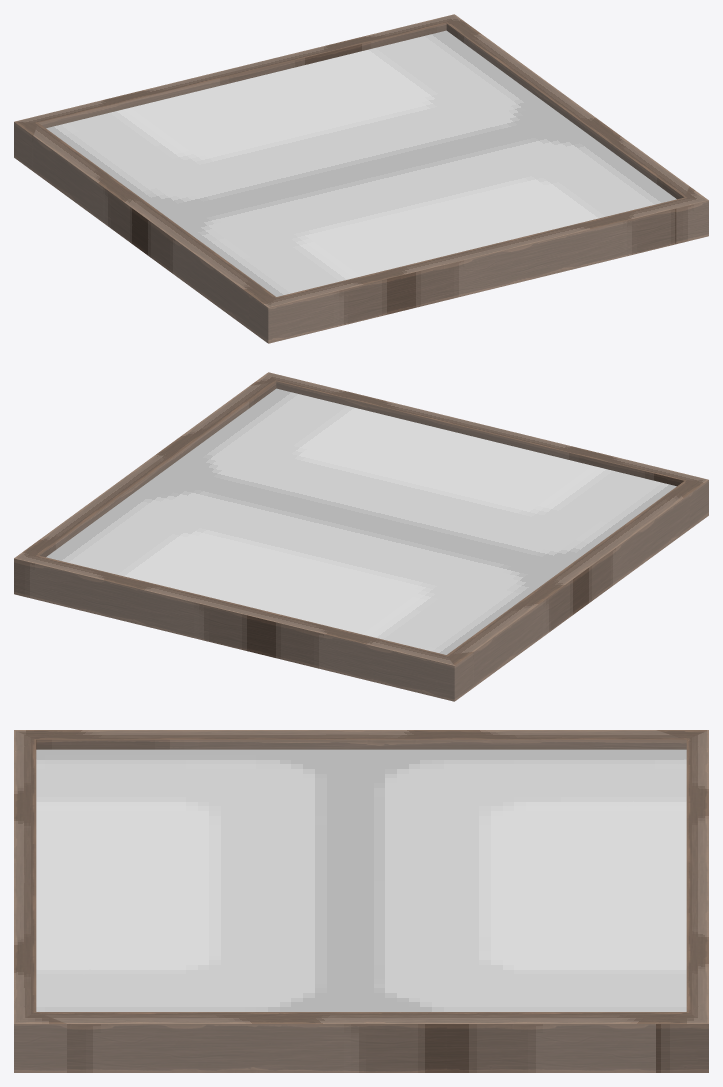
File: SM_HouseRoof_Top_01.fbx
3 views of the same model, one above another, from view 1: azimuth 30°, elevation 25°; view 2: azimuth 150°, elevation 25°; view 3: azimuth 270°, elevation 25° (orthographic). The views are drawn at different scales.
Parts seen in each view (by area): view 1: SM_HouseRoof_Top_01; view 2: SM_HouseRoof_Top_01; view 3: SM_HouseRoof_Top_01.
Part boxes in pixels (x1,y1,x2,y2): SM_HouseRoof_Top_01: [14, 14, 708, 343]; SM_HouseRoof_Top_01: [14, 372, 708, 701]; SM_HouseRoof_Top_01: [14, 730, 708, 1072].
Size of the model in its own units: 500 by 500 by 40.77.
